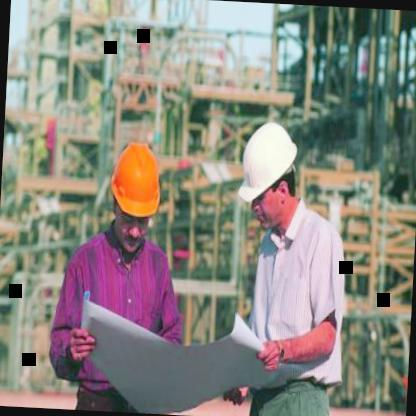helmet: (231, 110, 307, 232), (101, 136, 170, 251)
